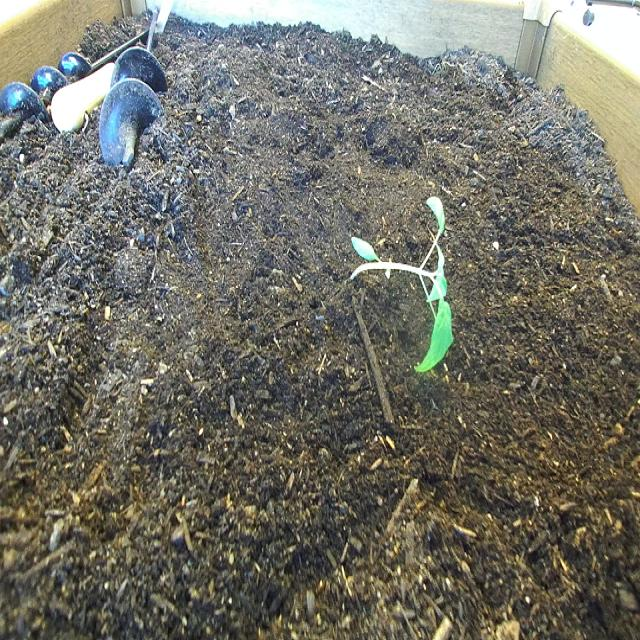Unhealthy: (344, 193, 468, 380)
